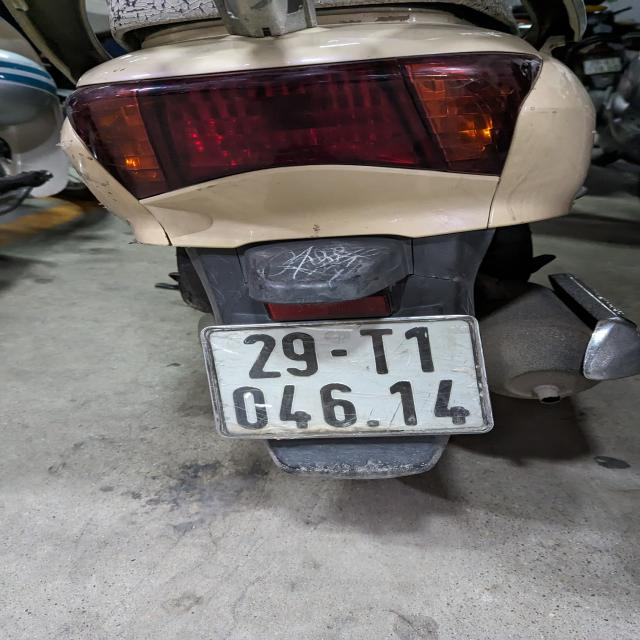License: (199, 314, 494, 440)
